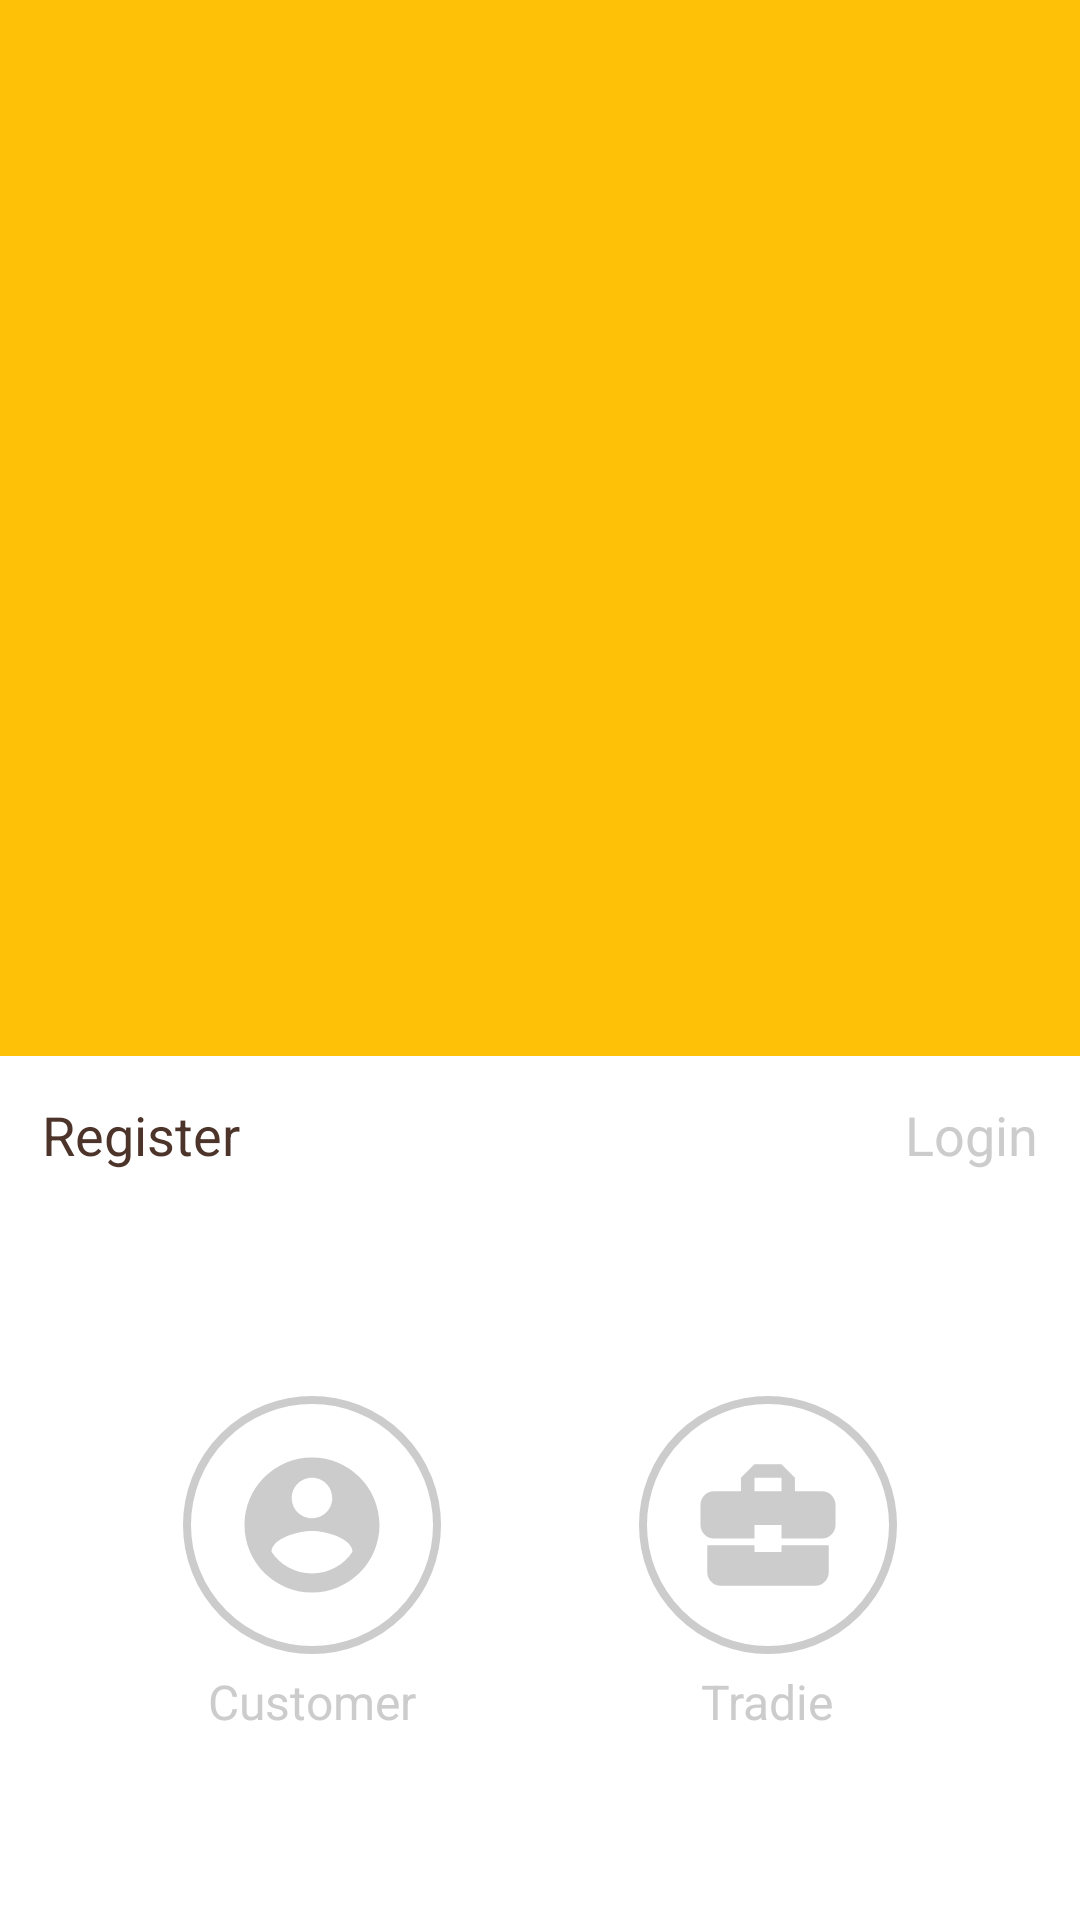

Icon click points for this 1080px×1920px phone screenshot, format (x=x, y=y):
account circle: (x=312, y=1525)
business center: (x=768, y=1525)
